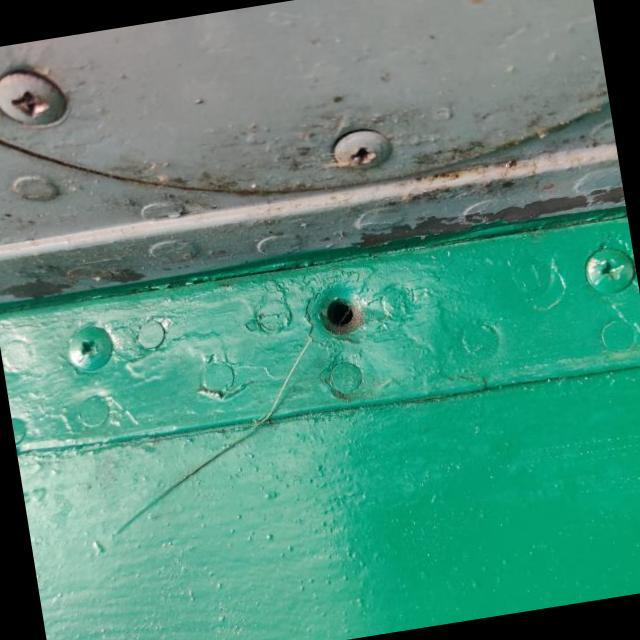Fastener Damage: (281, 262, 400, 361)
